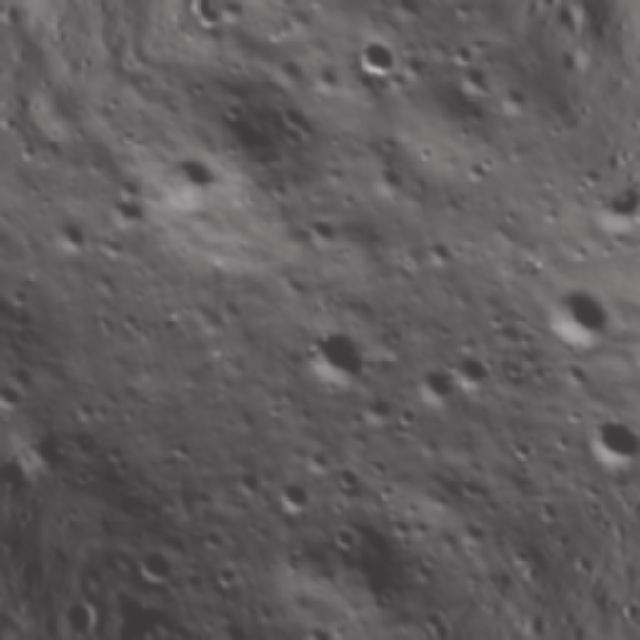crater: (281, 306, 387, 414), (526, 268, 628, 370), (144, 138, 233, 228), (558, 387, 640, 484), (331, 17, 417, 103), (260, 465, 328, 532), (404, 350, 470, 419), (442, 340, 503, 402), (34, 204, 95, 265), (293, 198, 353, 260), (98, 178, 158, 239), (124, 535, 184, 596), (314, 508, 372, 567), (354, 379, 411, 438), (322, 454, 372, 504), (499, 430, 547, 478), (0, 368, 37, 422), (290, 607, 349, 640), (441, 33, 482, 76), (411, 0, 477, 17), (0, 293, 17, 352), (0, 257, 9, 311), (629, 337, 640, 381)
